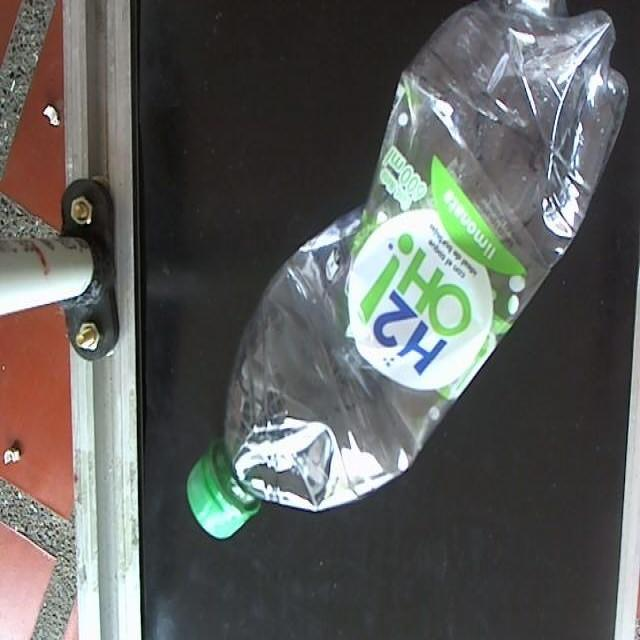defect: (183, 0, 632, 543)
